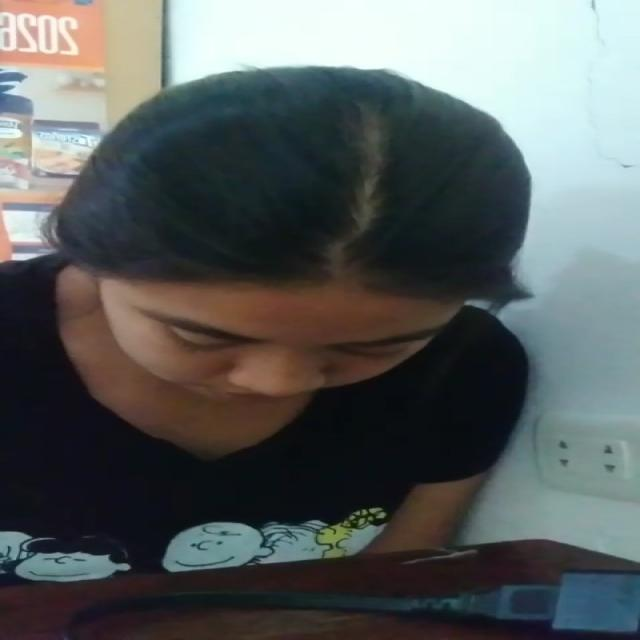9_cabeza_baja: (56, 68, 534, 400)
